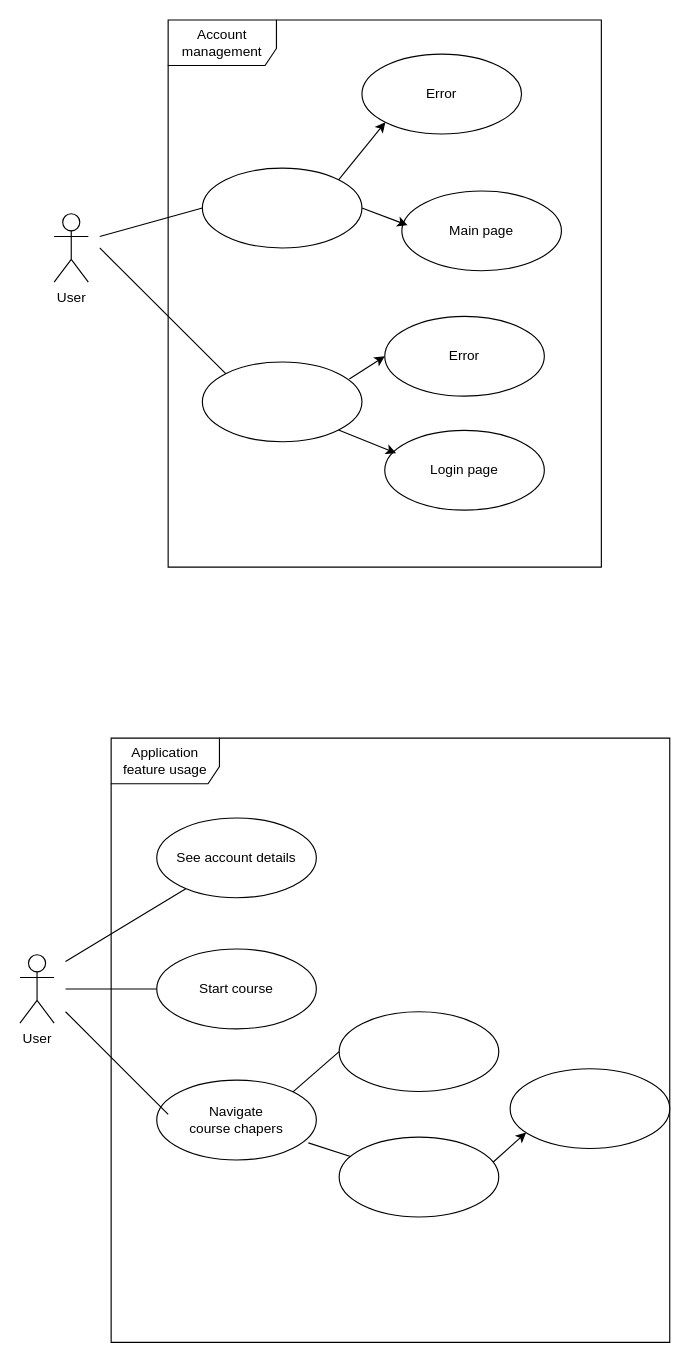
Image size: 690x1362. Some labels were removed from this diagram. Each missing label, with the centre of its shape:
"Download project files" belongs at [418,1051].
"Login" belongs at [281,207].
"Receive solution result" belongs at [589,1108].
"Register" belongs at [281,401].
"Upload project solution" belongs at [418,1176].
